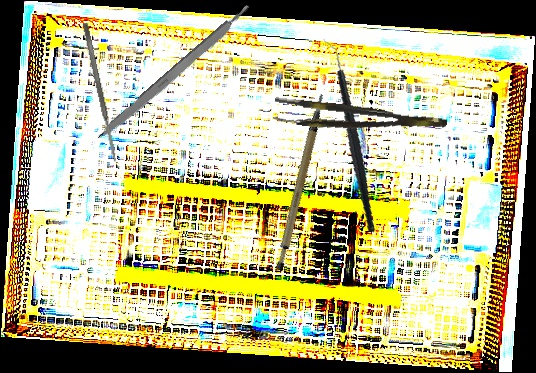Chopper: (294, 38, 404, 233)
Scalpel Handle: (93, 1, 257, 146), (252, 93, 353, 273)
Spatula Surgical: (81, 22, 119, 163)
Tissue Forceps: (272, 96, 448, 143)
